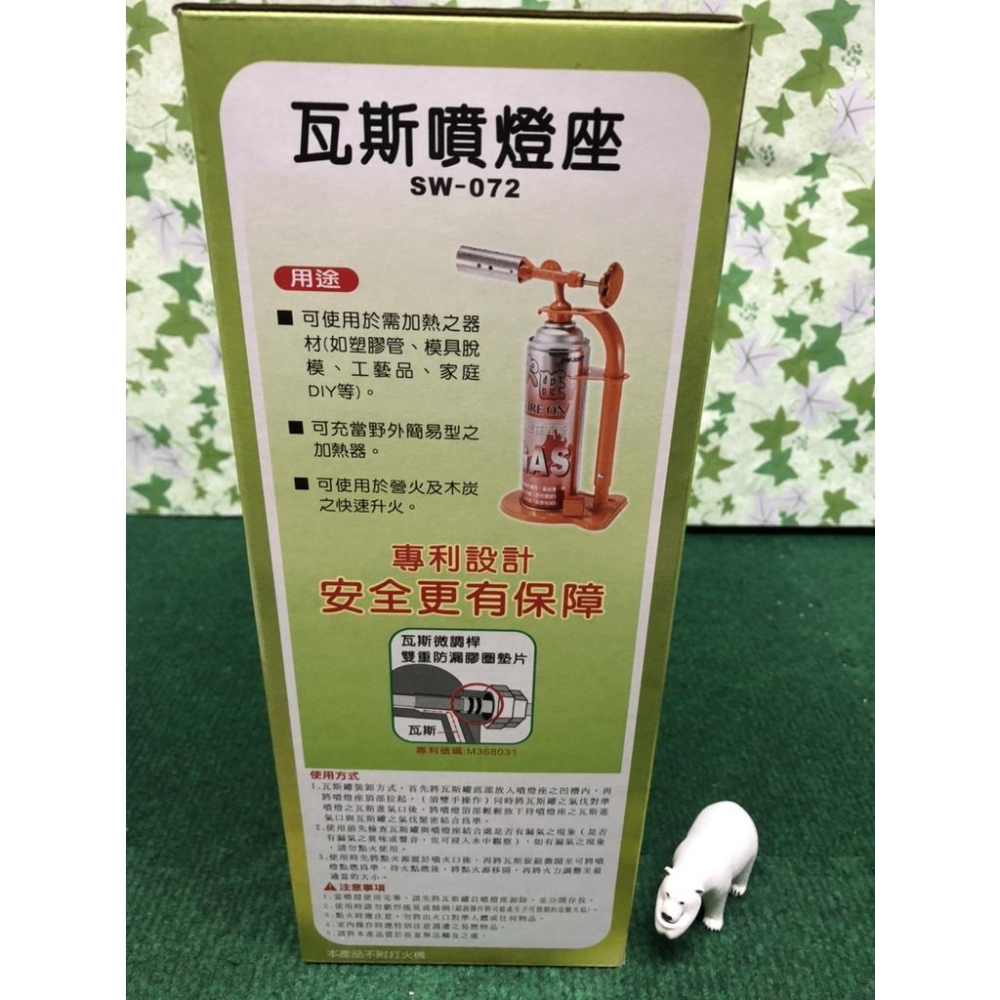gastorch: (457, 245, 633, 538)
